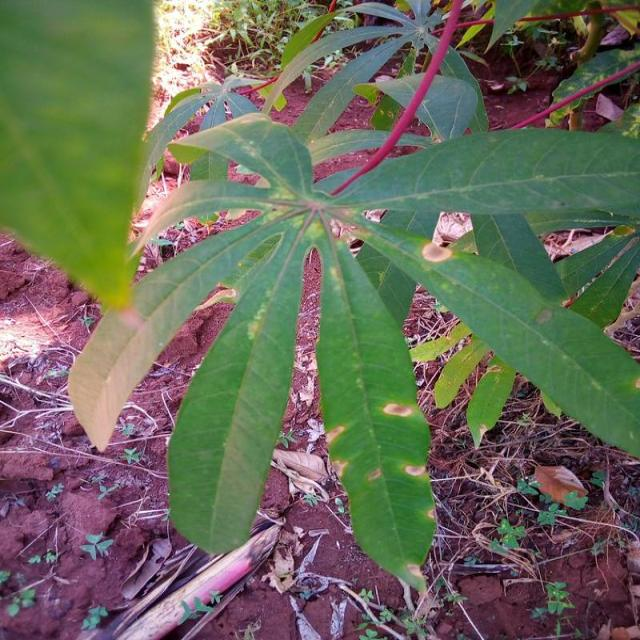cassava leaf: (65, 4, 638, 588)
